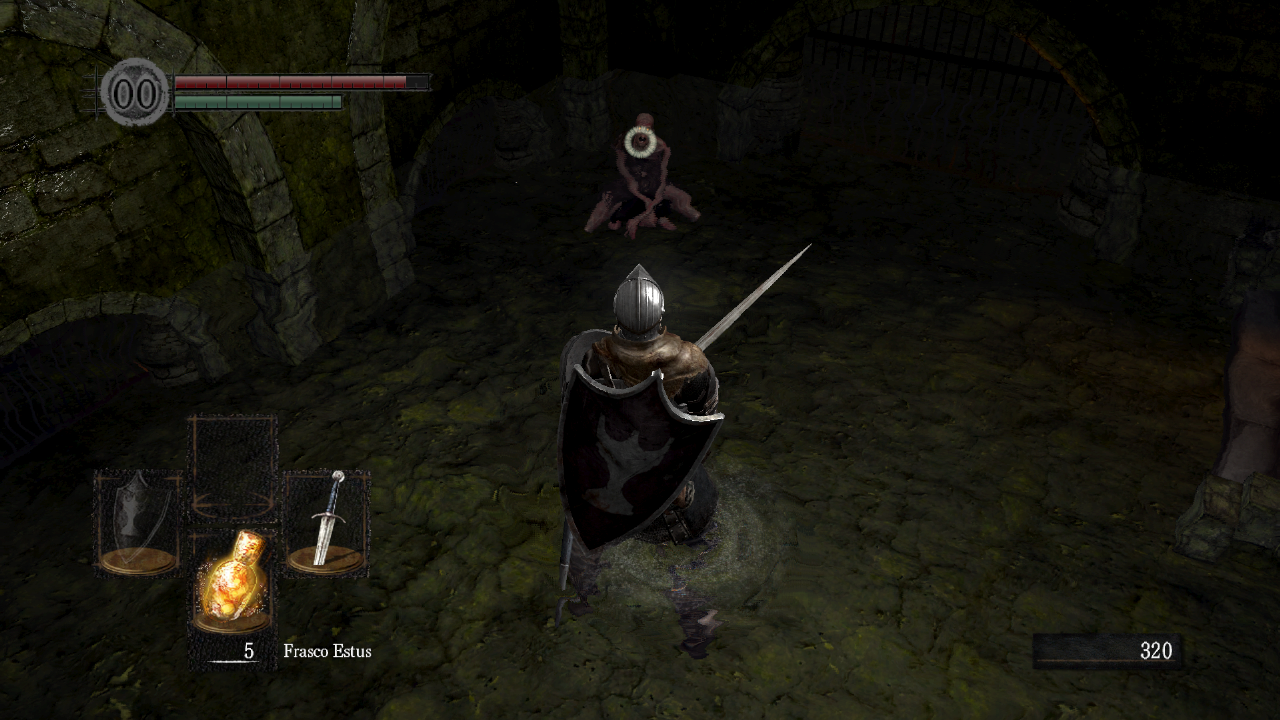hollow: (584, 112, 702, 239)
player: (557, 242, 814, 660)
